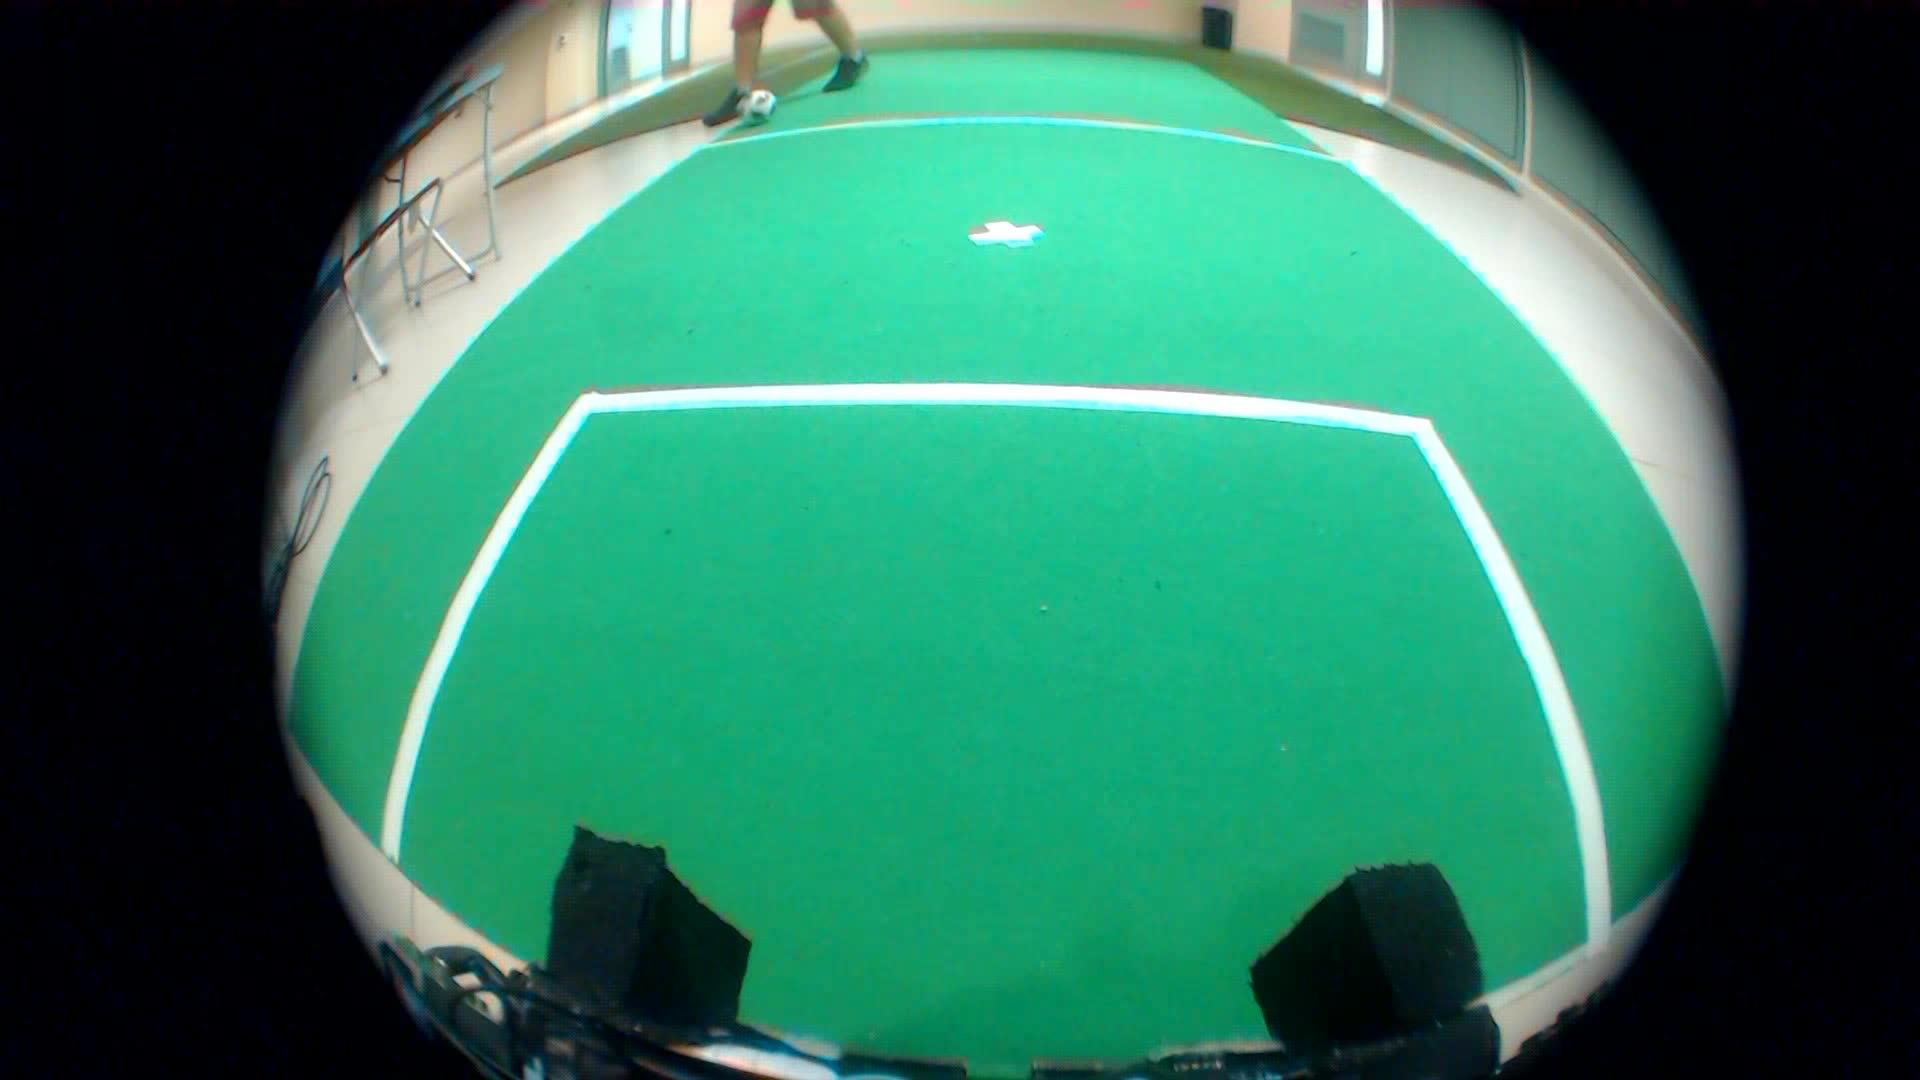ball: (735, 80, 783, 132)
